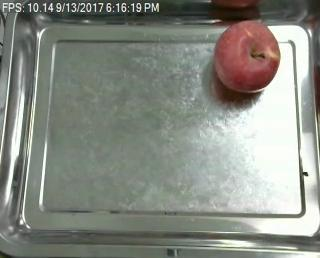apple: (212, 21, 280, 93)
